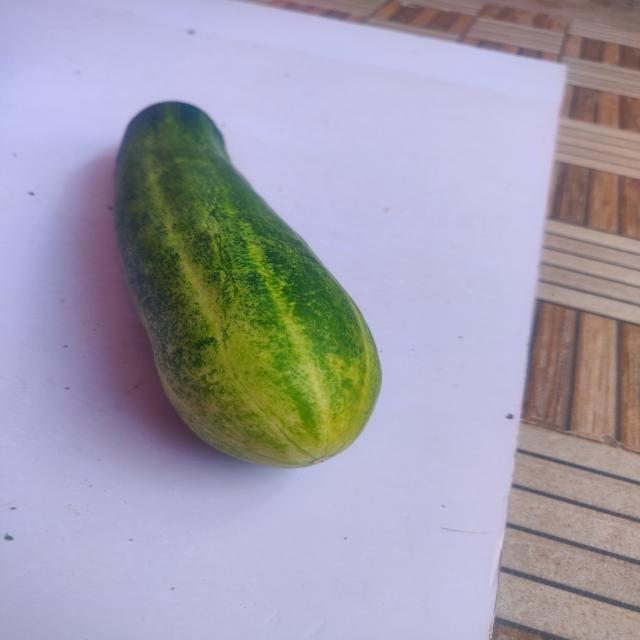Cucumber: (94, 85, 414, 477)
